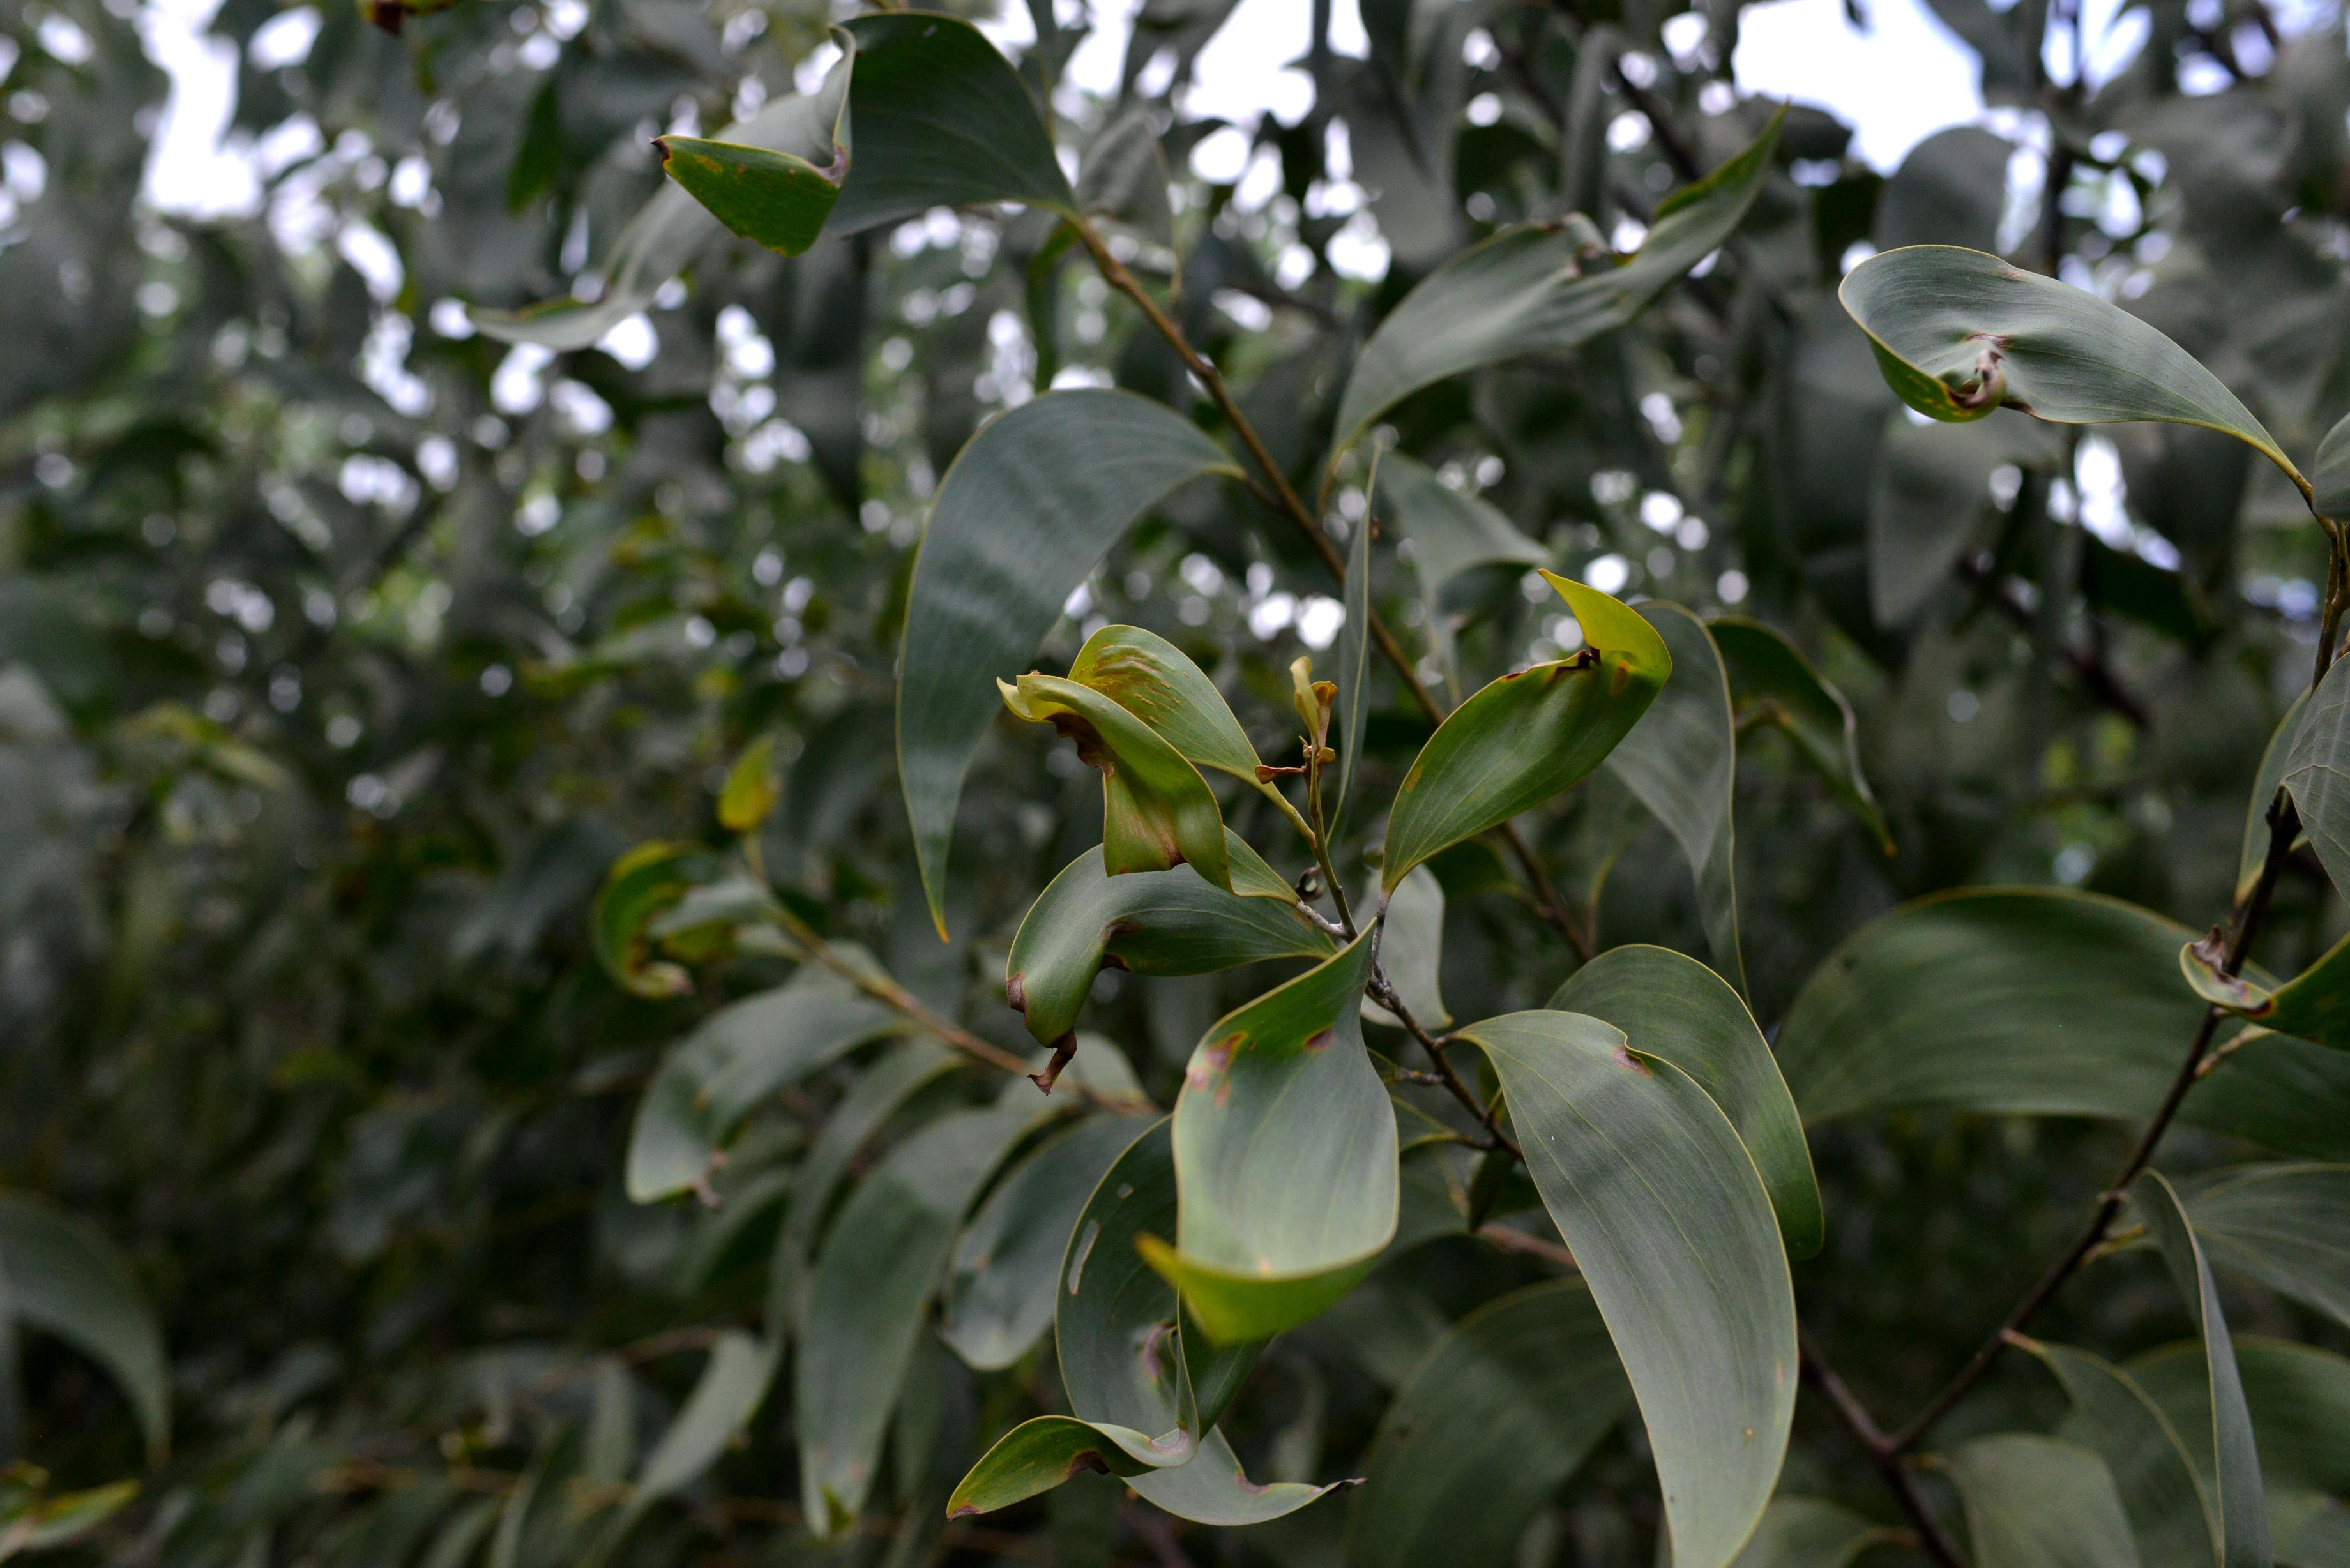Pasalora: (1367, 546, 1692, 899), (640, 10, 1029, 301), (1146, 926, 1393, 1351), (1006, 677, 1302, 926), (906, 1342, 1211, 1556), (1823, 250, 2109, 448), (1080, 619, 1318, 840), (595, 845, 740, 999), (1127, 1414, 1342, 1517), (716, 712, 803, 836)
